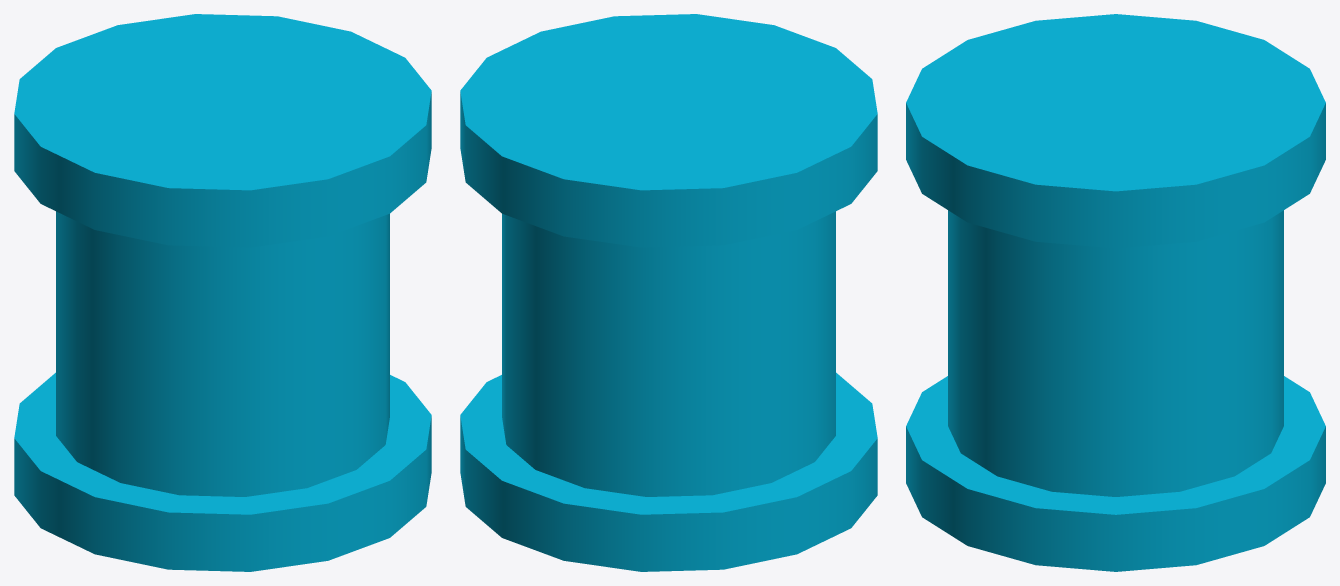
3 renders of one model, left to right at view 1: azimuth 30°, elevation 25°; view 2: azimuth 150°, elevation 25°; view 3: azimuth 270°, elevation 25°, orthographic.
Visible parts, largest first — view 1: Cylinder; view 2: Cylinder; view 3: Cylinder.
Part boxes in pixels (x1,y1,x2,y2): Cylinder: (14, 14, 431, 571); Cylinder: (460, 14, 877, 571); Cylinder: (906, 14, 1325, 571).
Bounding box in the file's own units: 2 × 2 × 2.
